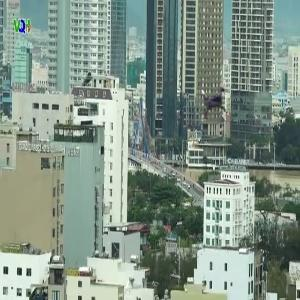drone: (191, 78, 238, 125)
